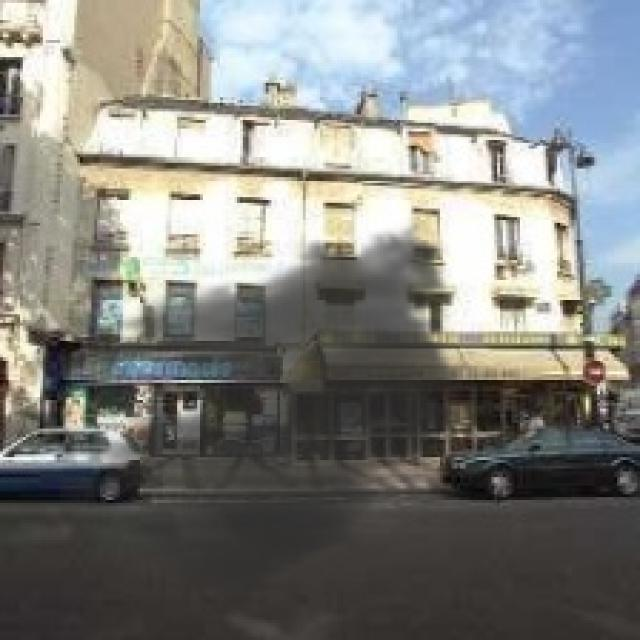Smoke: (60, 212, 483, 614)
